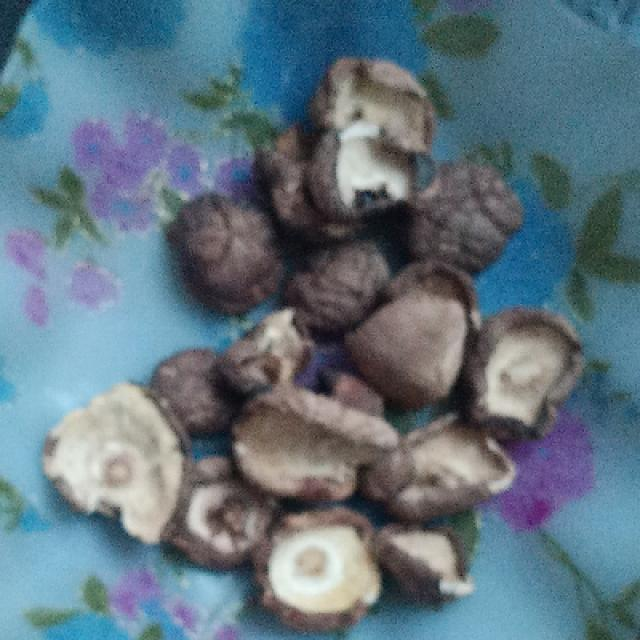Lentinus edodes: (49, 380, 190, 542), (347, 261, 482, 409), (317, 51, 429, 218), (230, 390, 394, 504), (379, 411, 527, 517), (475, 300, 584, 440), (166, 193, 286, 313), (265, 507, 382, 627), (415, 163, 527, 277), (294, 237, 394, 332), (184, 454, 270, 560)
